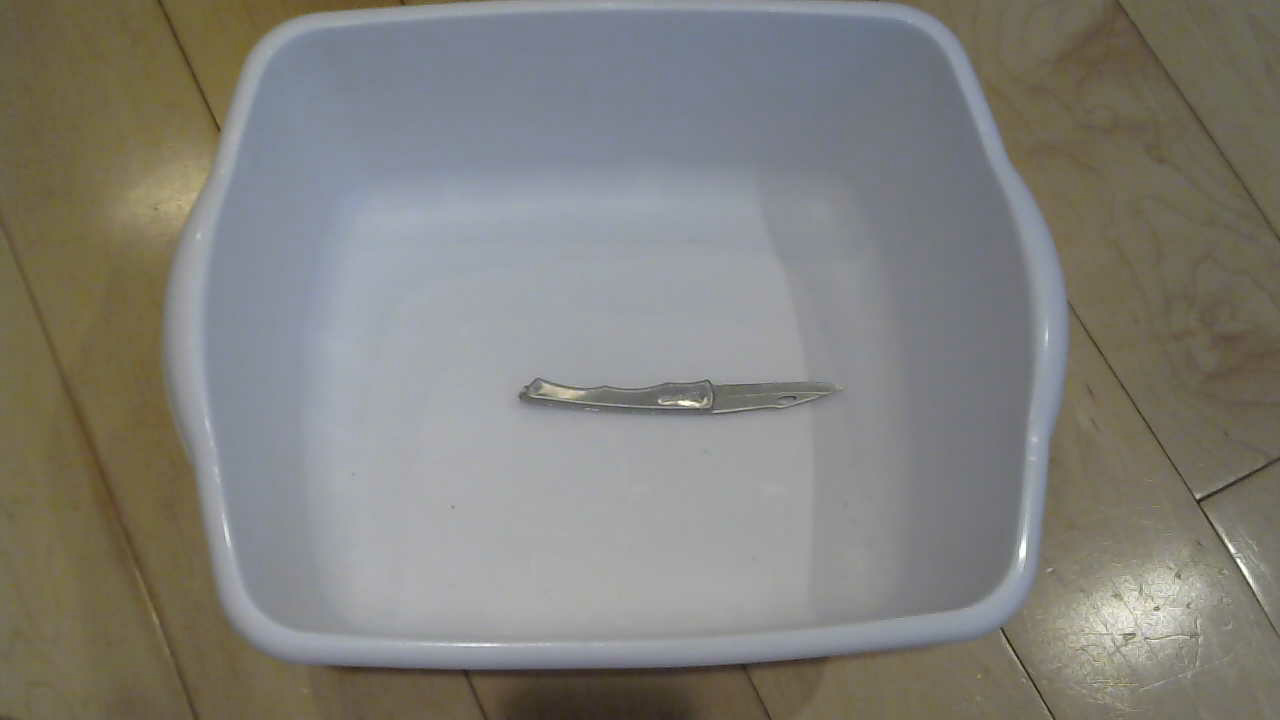knife: (514, 375, 859, 428)
